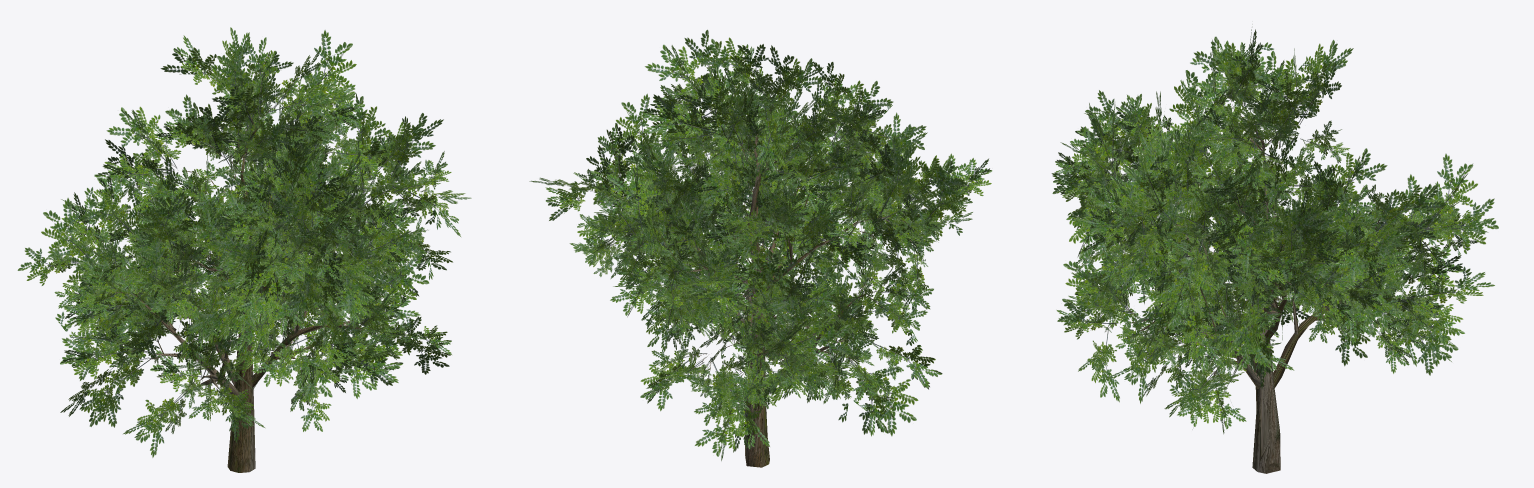
The model's file is Tree_Large_A.glb.
The picture shows the model from 3 angles, left to right: view 1: azimuth 30°, elevation 25°; view 2: azimuth 150°, elevation 25°; view 3: azimuth 270°, elevation 25°; orthographic projection. The views are drawn at different scales.
Visible parts, largest first — view 1: Tree_Large_A; view 2: Tree_Large_A; view 3: Tree_Large_A.
Part boxes in pixels (left/top/right/bottom): Tree_Large_A: left=17, top=27, right=471, bottom=472; Tree_Large_A: left=529, top=29, right=992, bottom=467; Tree_Large_A: left=1051, top=29, right=1498, bottom=473.
Bounding box in the file's own units: 7.19 × 7.5 × 7.22.
2 materials, 2 textured.
